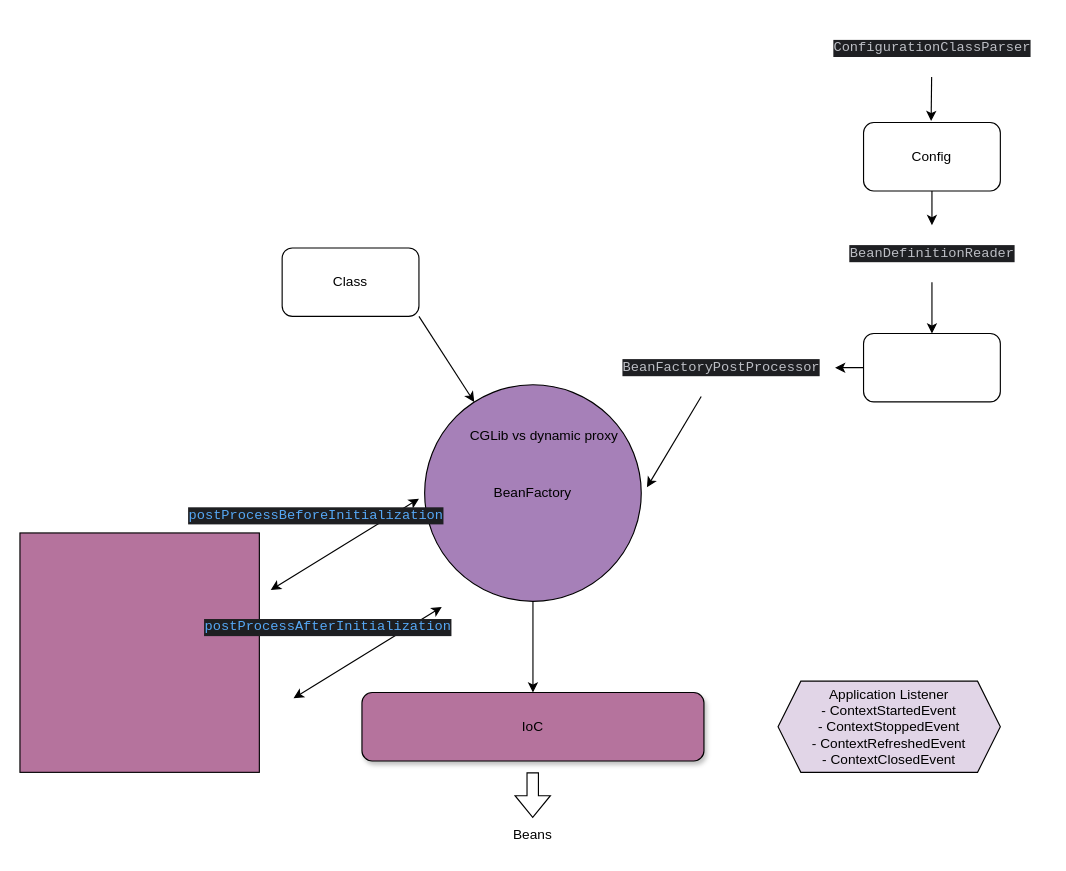
Image size: 1066x871. Some labels were removed from this diagram. Here are the shapes that lost their labels. From the top down, the centre of each, then its label:
At pixel 931 367: "BeanDefinition".
At pixel 139 652: "BeanPostProcessors".
